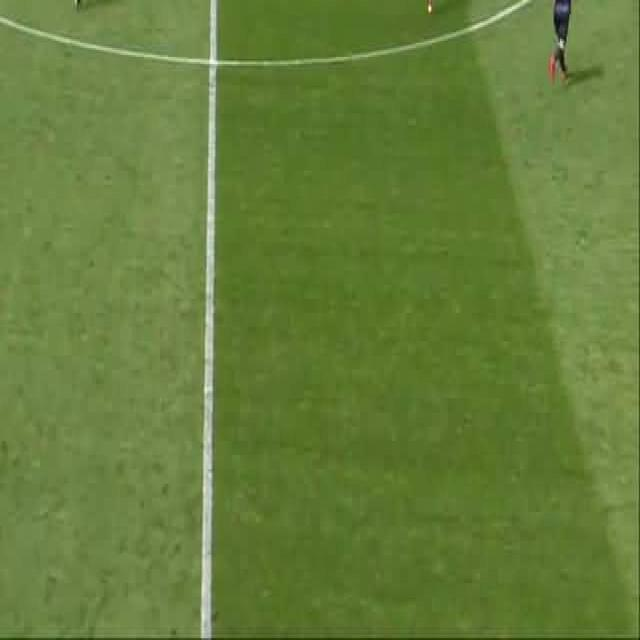player-white: (548, 0, 576, 87), (420, 0, 446, 16), (70, 0, 96, 12)
